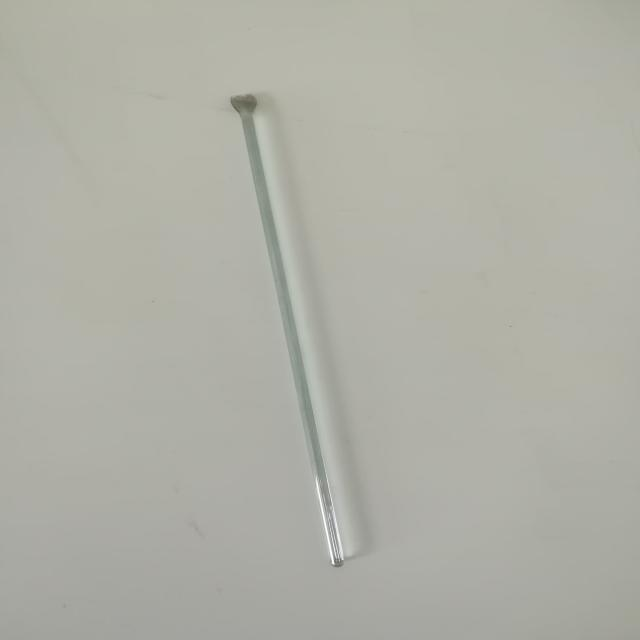Glass_Rod: (213, 71, 428, 586)
